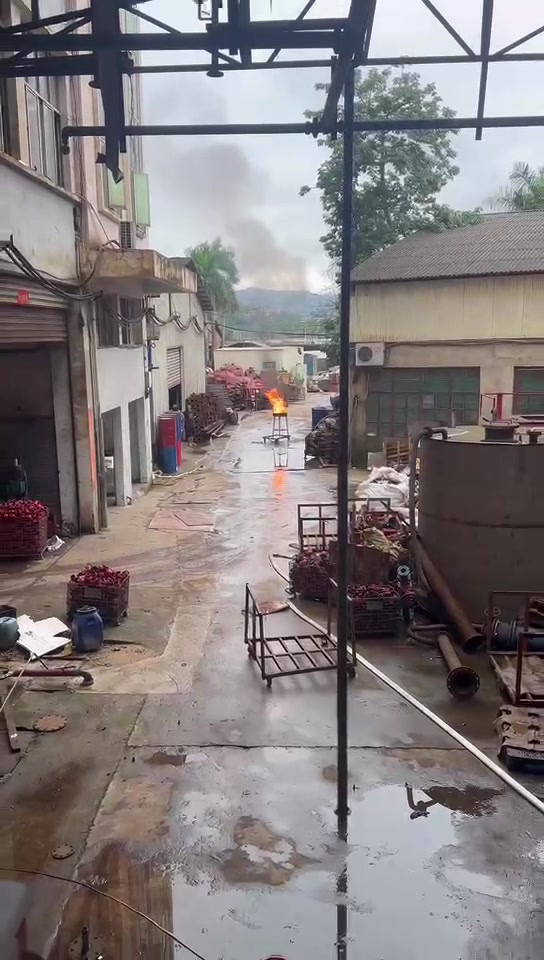fire: (263, 387, 286, 412)
